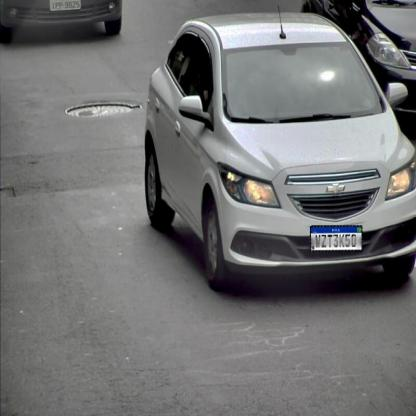PlacaM: (310, 225, 362, 252)
